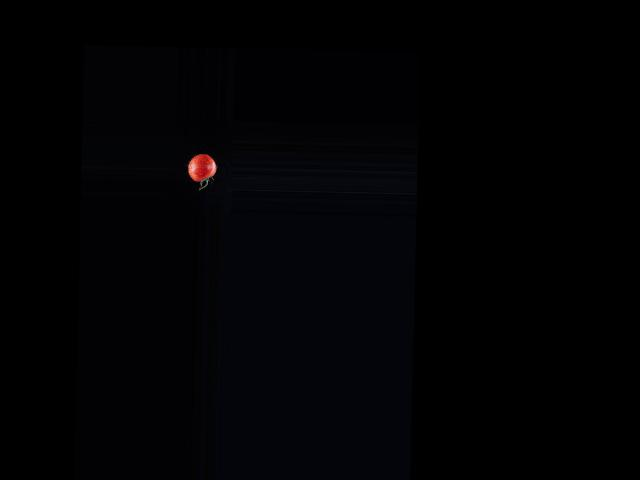tomato: (187, 153, 216, 182)
